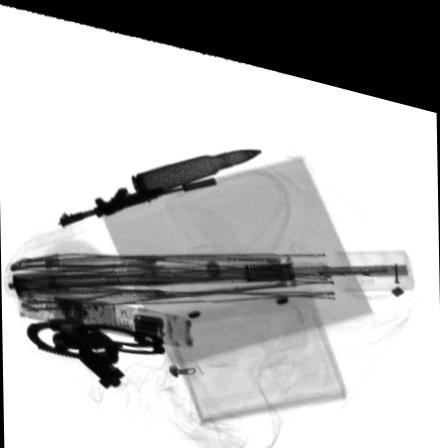Baton: (16, 288, 193, 339)
Bullet: (131, 136, 263, 188)
Gun: (58, 165, 217, 226)
HandCuffs: (27, 316, 165, 385)
